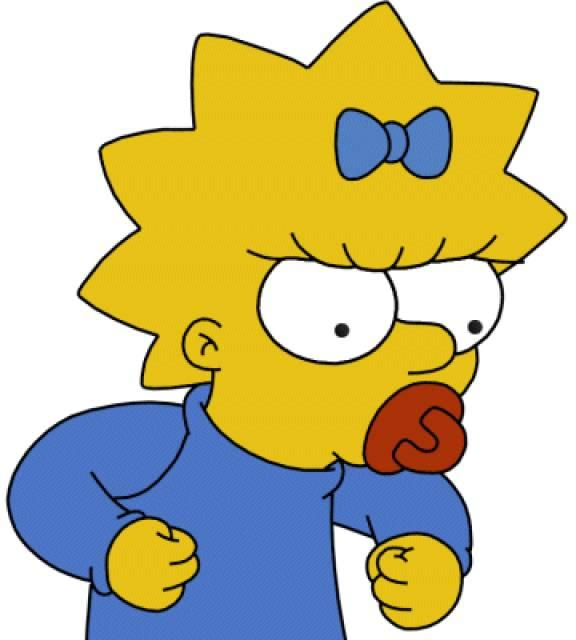Maggie: (16, 0, 574, 640)
